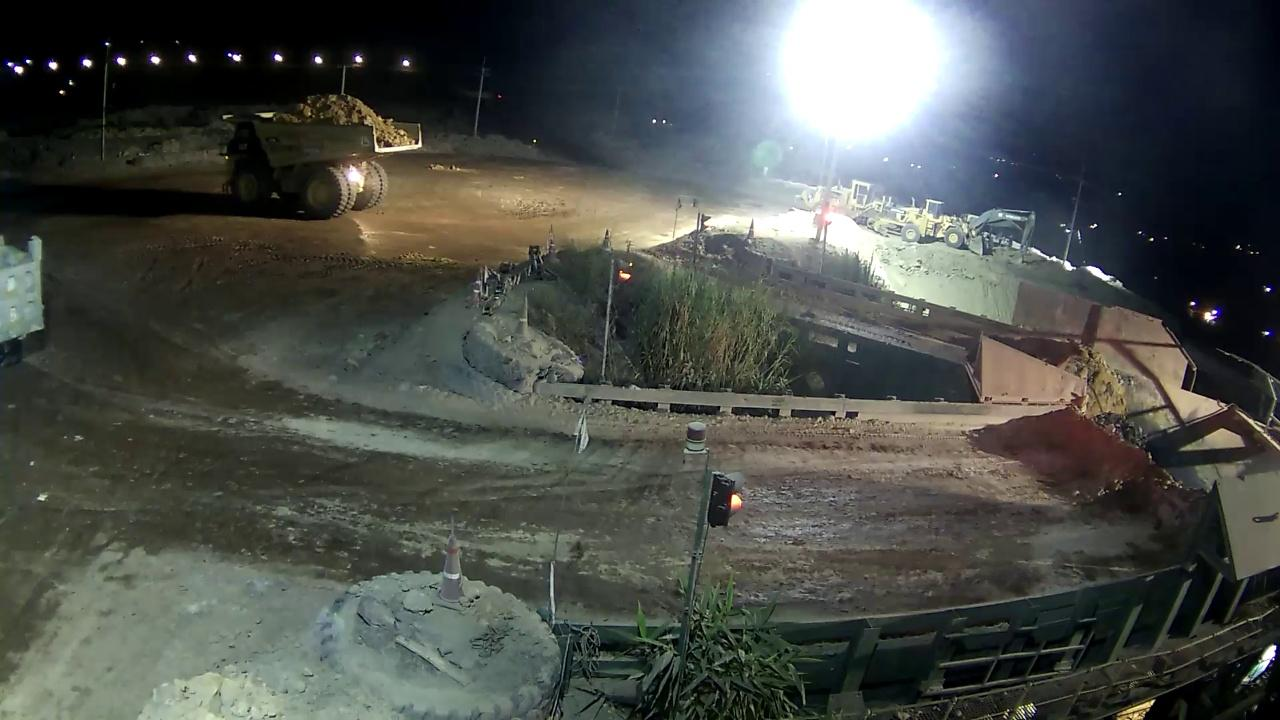full_load: (269, 90, 407, 127)
mining_truck: (212, 89, 427, 222)
tail_number: (353, 134, 372, 152)
